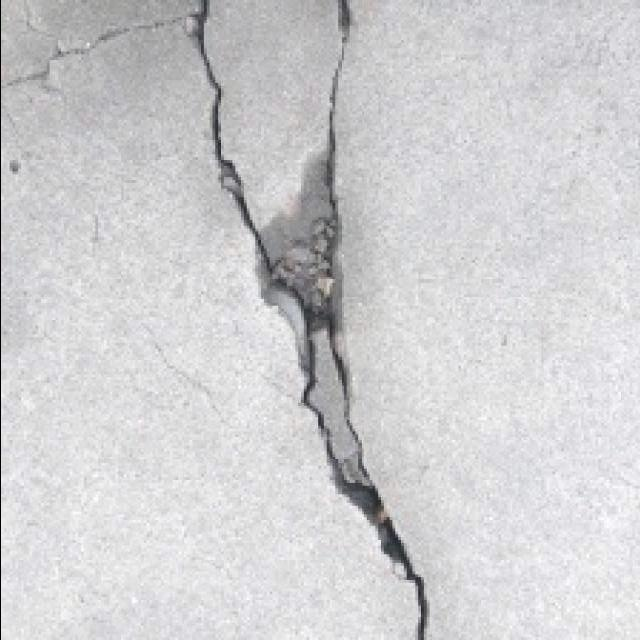SurfaceCrack: (162, 0, 464, 640)
